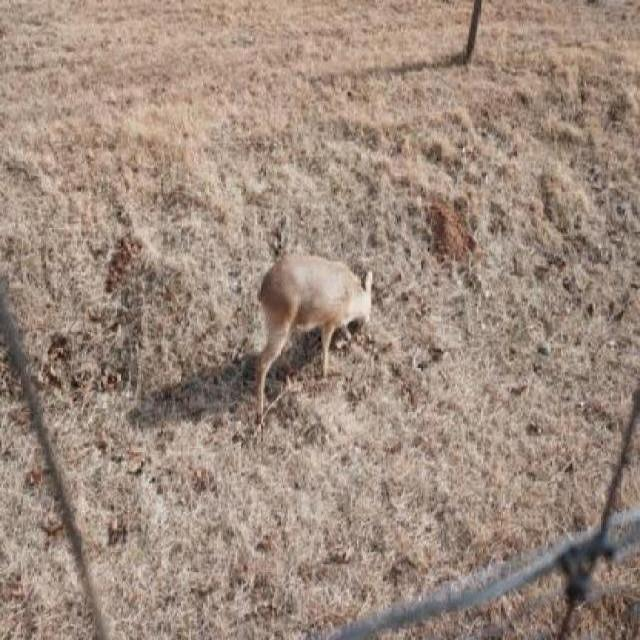deer: (248, 243, 378, 416)
